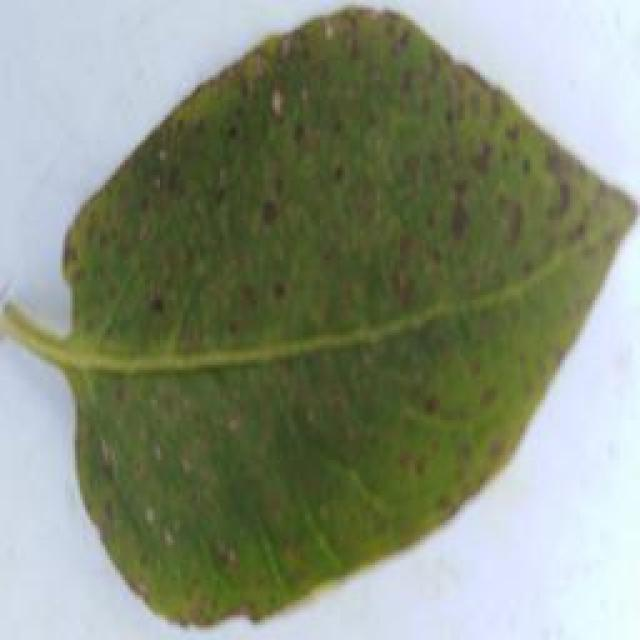Potato_Early_Blight: (51, 19, 624, 620)
